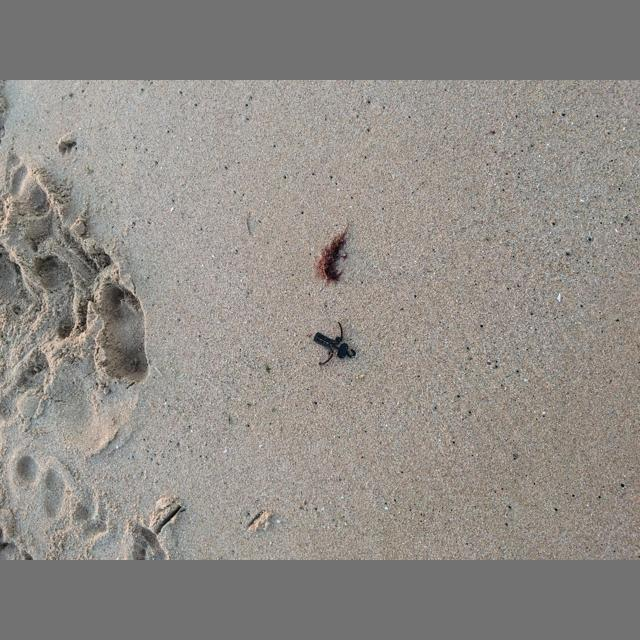litter: (314, 322, 356, 365)
